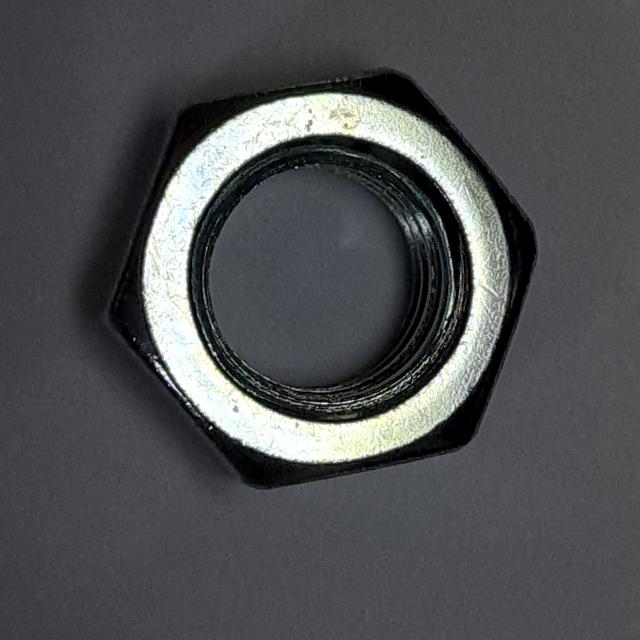Excellent: (72, 55, 550, 509)
